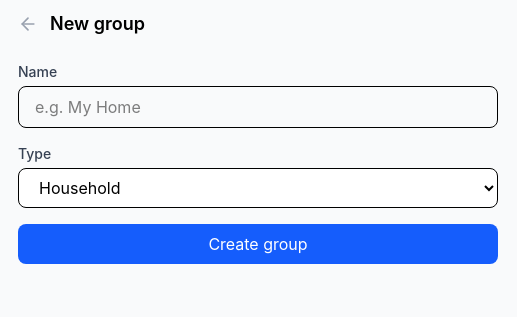
Scenario: GroupFormPage — create › shows error message on API failure
Type "Taken Name" into the field with placeholder "e.g. My Home" at point(258, 107), box 18,86 -> 498,128
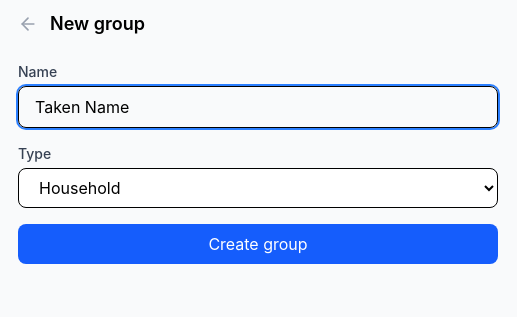
Click the button "Create group" at point(258, 244), box 18,224 -> 498,264
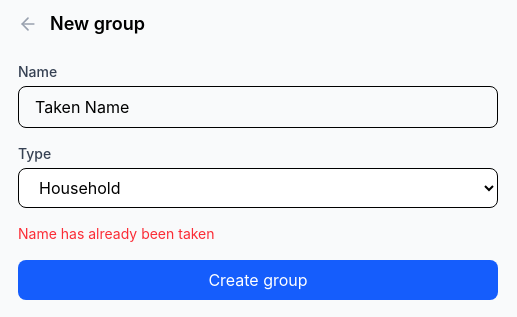
Expected: the text "Name has already been taken" is shown, 18,225 -> 215,242
